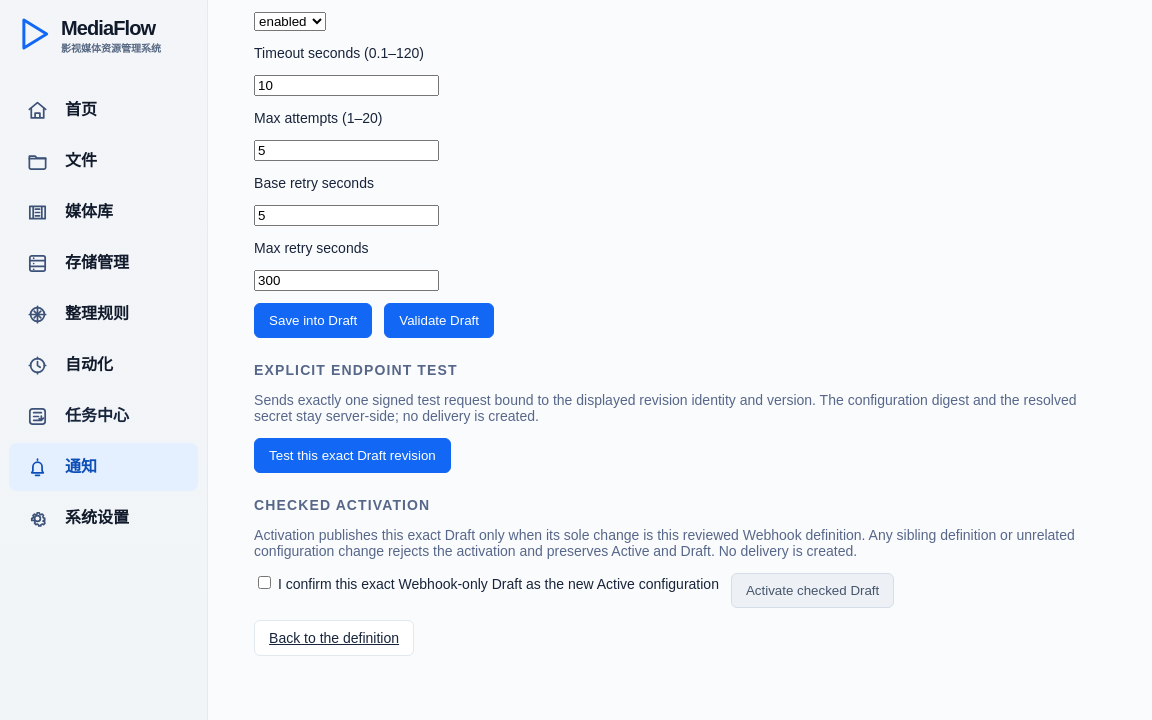
Test case: NotificationEditorPage checked activation › does not replay a stale activation and offers the bounded recovery
(page scrolled)
Click the checkbox named "Confirm checked activation": (265, 582) [258,576,271,589]
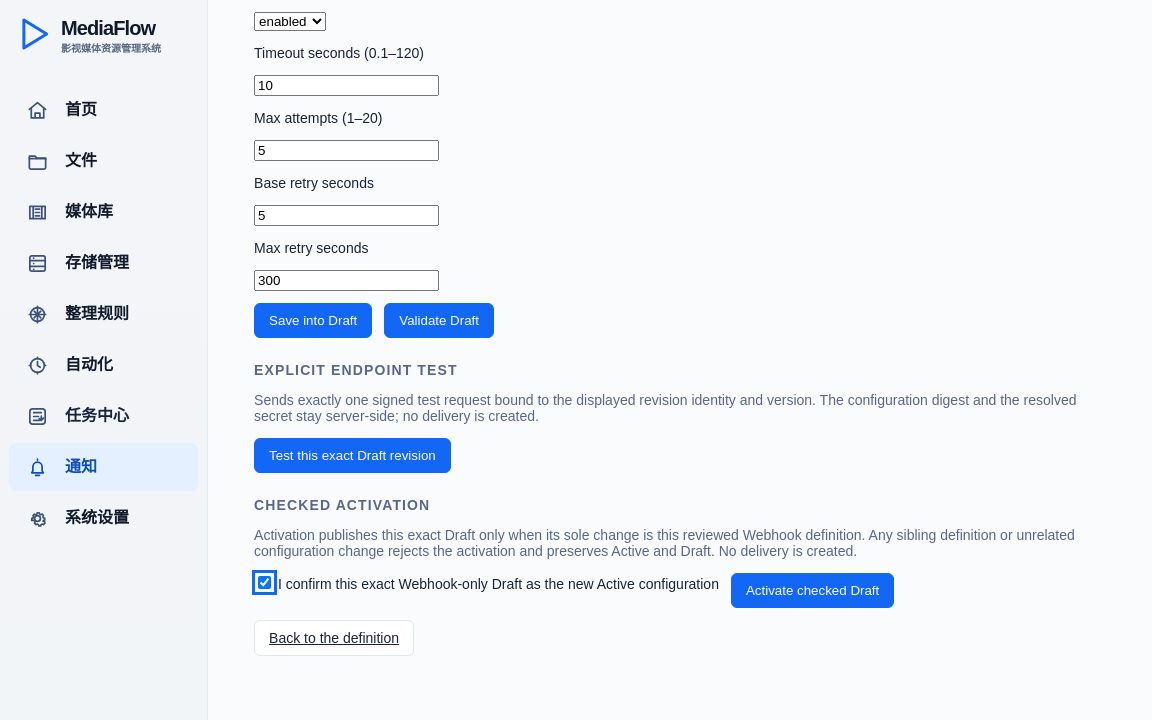
Click the button "Activate checked Draft": (813, 590) [731,573,894,608]
(page scrolled)
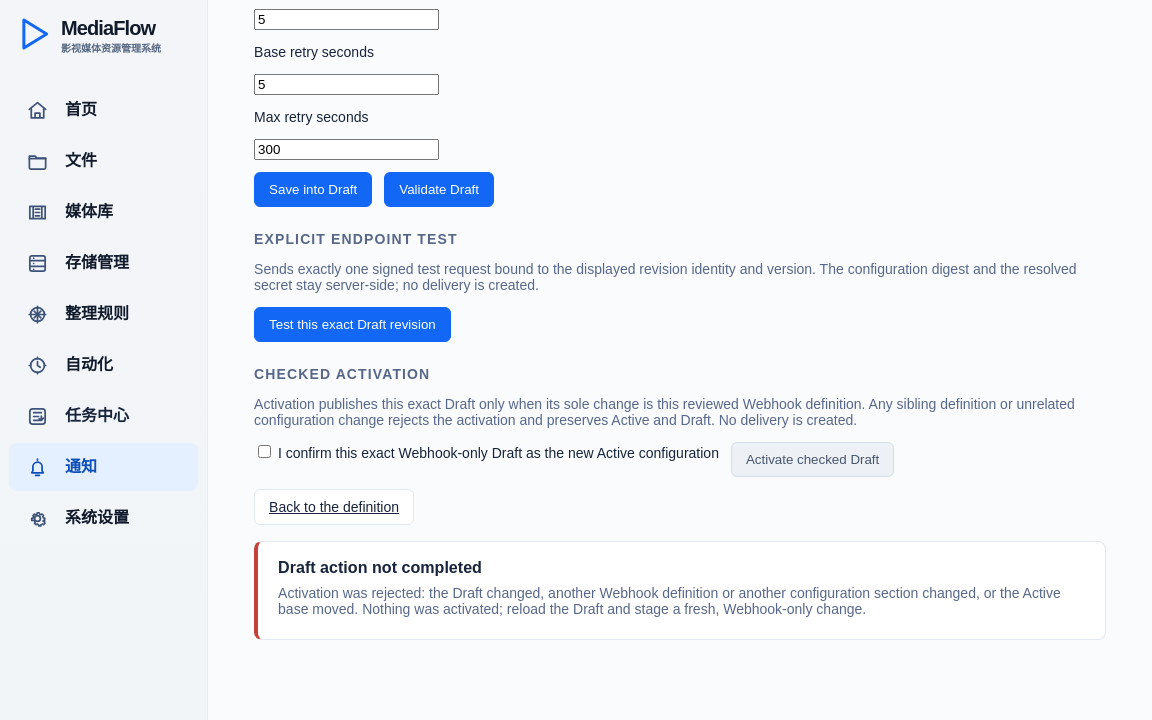
Expected: the text "Activation was rejected" is shown, [278,585,1061,617]
